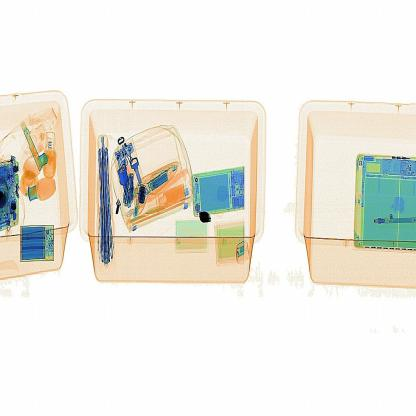scissors: (195, 208, 213, 229)
